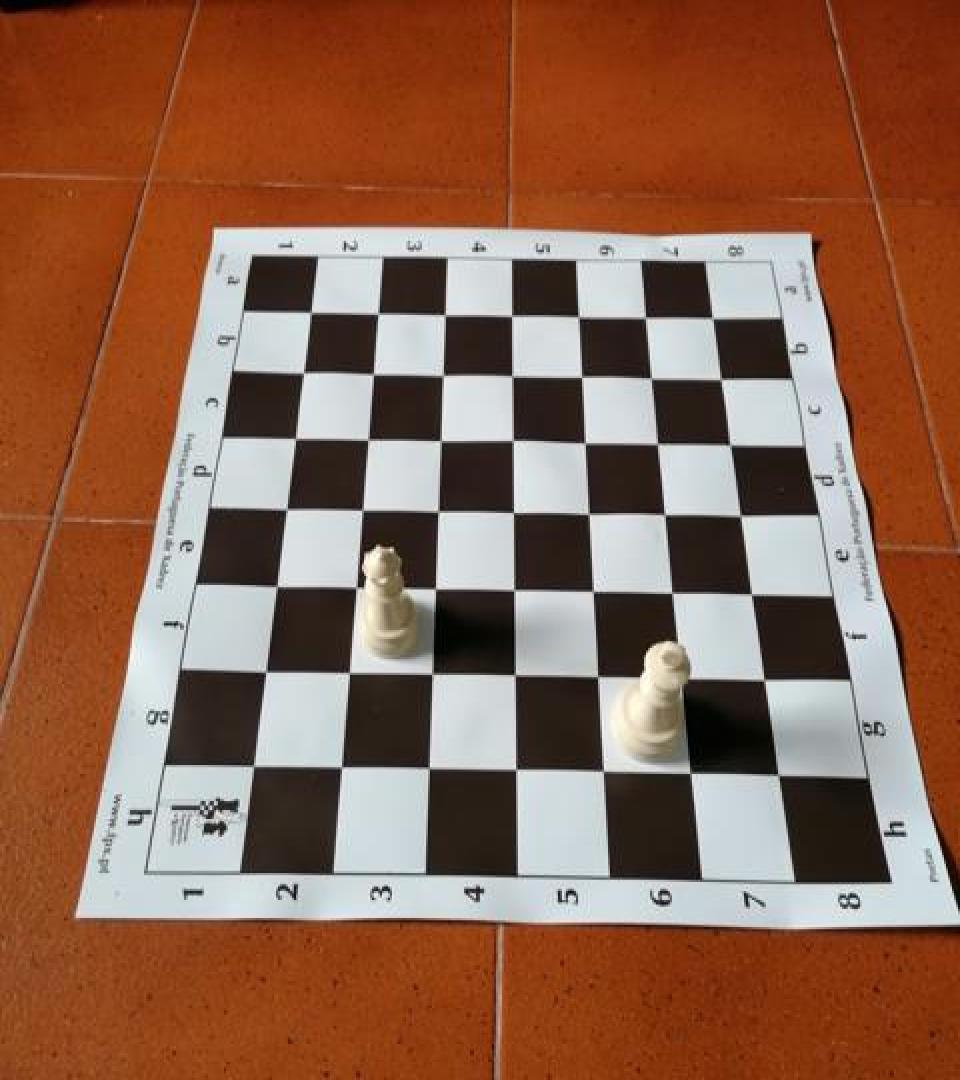xcorner: (579, 572, 611, 609), (498, 571, 530, 608), (668, 661, 700, 698), (246, 653, 278, 690), (701, 296, 733, 332), (632, 296, 664, 332), (564, 295, 596, 331), (497, 295, 529, 331), (429, 294, 461, 330), (361, 294, 393, 330), (294, 292, 326, 328), (709, 358, 741, 394), (638, 356, 670, 392), (568, 356, 600, 392), (497, 356, 529, 392), (426, 354, 458, 390), (356, 353, 388, 389), (286, 353, 318, 389), (719, 424, 751, 460), (645, 423, 677, 459), (571, 422, 603, 458), (497, 421, 529, 457), (424, 420, 456, 456), (350, 420, 382, 456), (277, 418, 309, 454), (730, 496, 762, 532), (652, 495, 684, 531), (575, 494, 607, 530), (498, 493, 530, 529), (421, 492, 453, 528), (344, 490, 376, 526), (268, 490, 300, 526), (741, 575, 773, 611), (660, 574, 692, 610), (418, 570, 450, 606), (337, 569, 369, 605), (257, 568, 289, 604), (754, 662, 786, 698), (583, 659, 615, 695), (499, 658, 531, 694), (414, 657, 446, 693), (330, 656, 362, 692), (768, 760, 800, 796), (678, 757, 710, 793), (588, 756, 620, 792), (499, 754, 531, 790), (410, 752, 442, 788), (321, 750, 353, 786), (233, 749, 265, 785)
